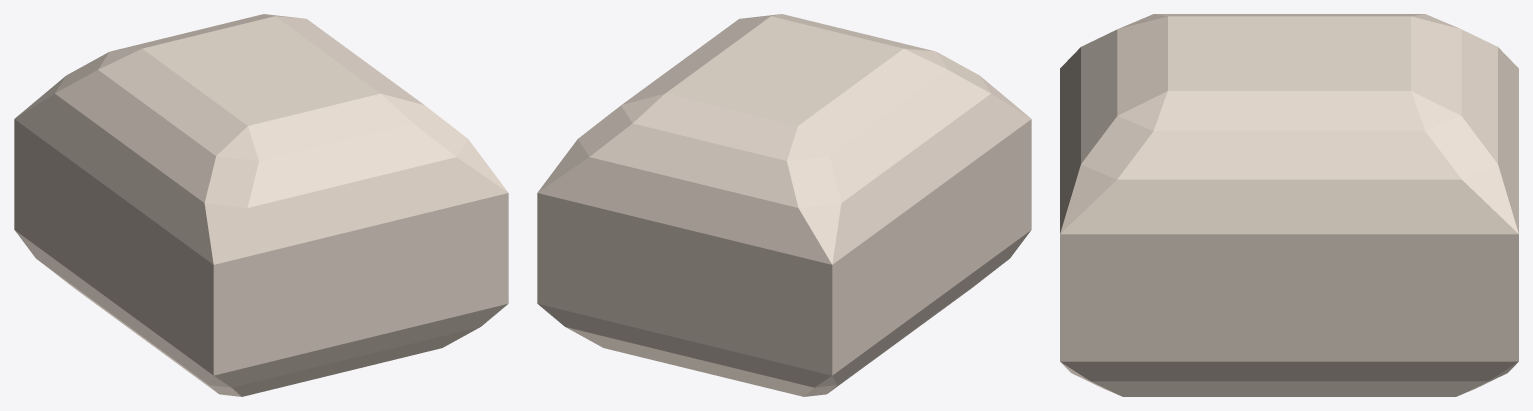
3 views of the same model, side by side, from view 1: azimuth 30°, elevation 25°; view 2: azimuth 150°, elevation 25°; view 3: azimuth 270°, elevation 25° (orthographic). The views are drawn at different scales.
Parts seen in each view (by area): view 1: Cube; view 2: Cube; view 3: Cube.
Part boxes in pixels (x1,y1,x2,y2): Cube: [14, 14, 508, 396]; Cube: [537, 14, 1031, 396]; Cube: [1060, 14, 1518, 396].
Bounding box in the file's own units: 0.6671 × 0.5426 × 0.7808.
